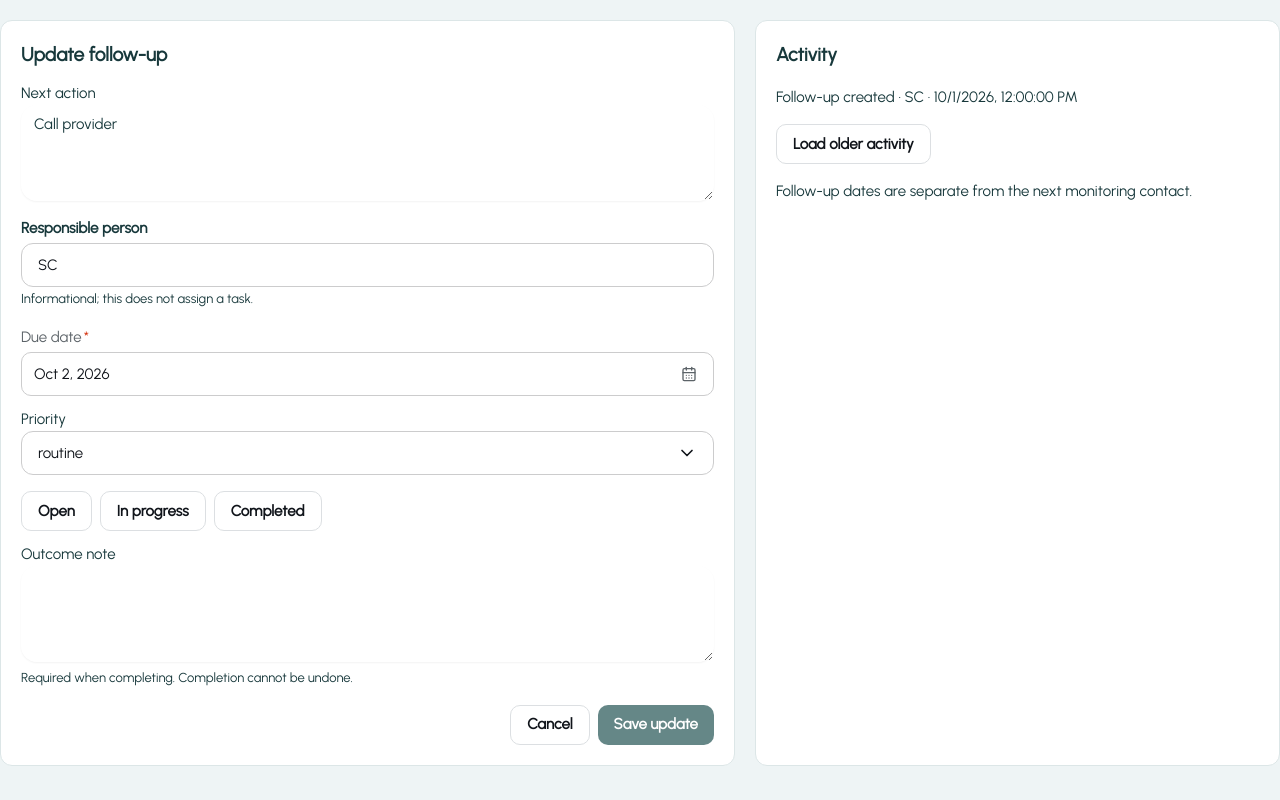
Test: unconfirmed follow-up saves show a warning to review the latest details and retain the draft
The image size is (1280, 800).
Replace the text in the text box labelled "Next action" with "Retained action". click: (368, 152)
box: [21,104,714,200]
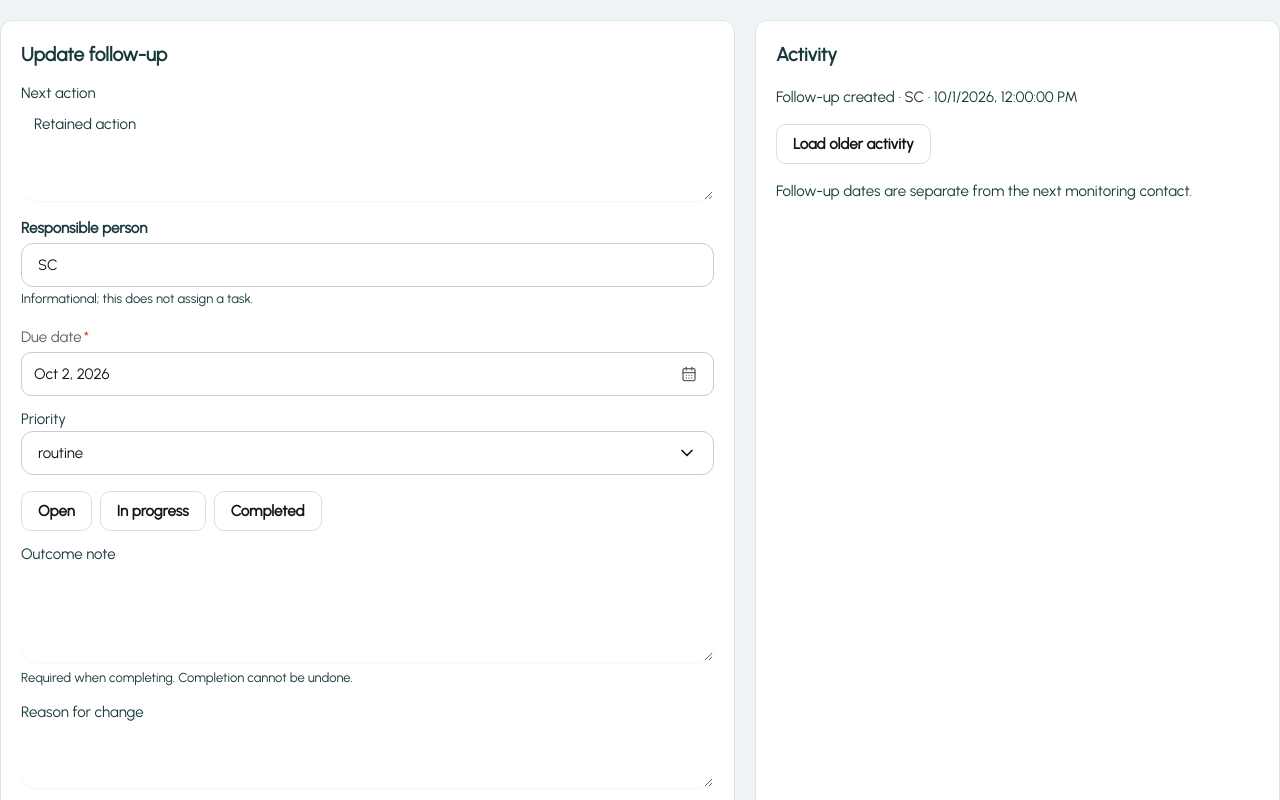
Type "Provider delay" into the text box labelled "Reason for change". click: (368, 756)
box: [21,724,714,788]
(page scrolled)
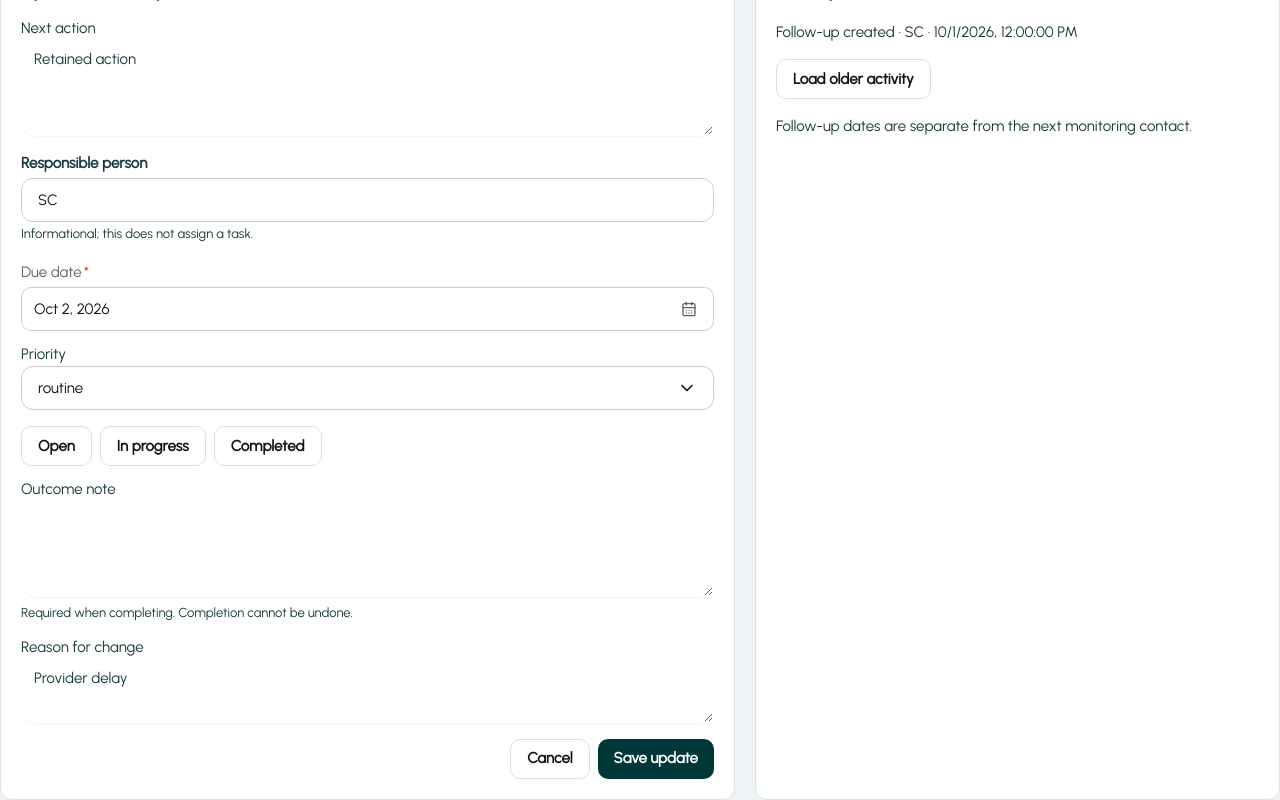
Click the button "Save update". click: (656, 758)
box: [598,738,714,778]
(page scrolled)
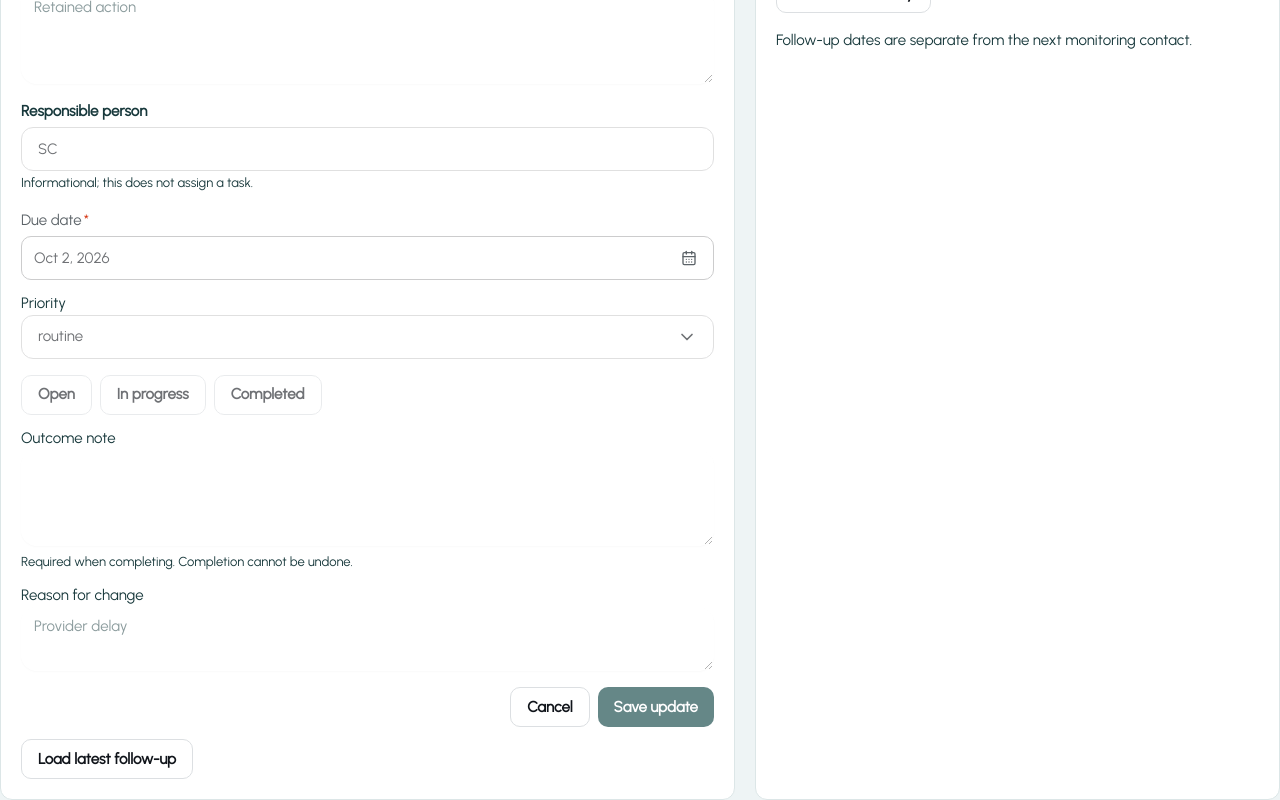
Result: the button "Save update" is disabled at [598,687,714,727]
